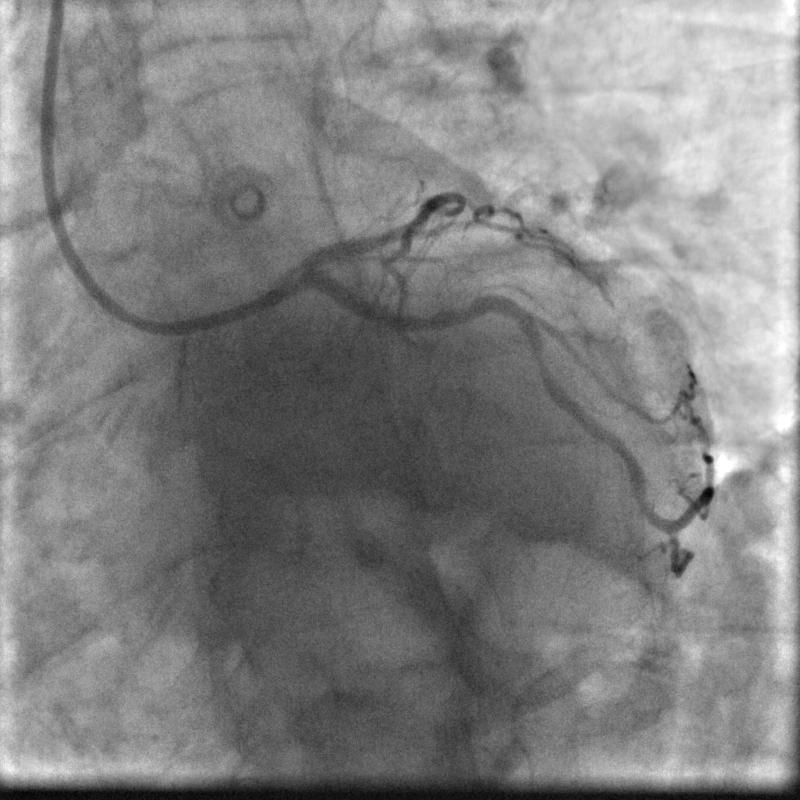Stenosis: (531, 346, 548, 374)
